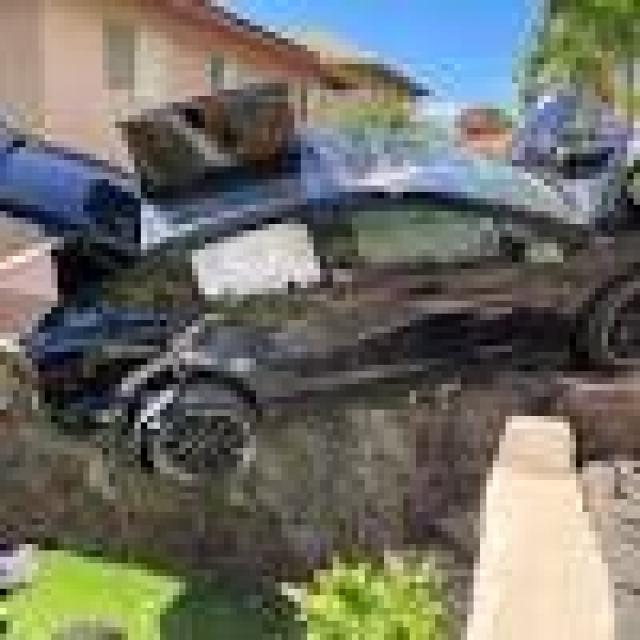severe: (0, 72, 630, 471)
